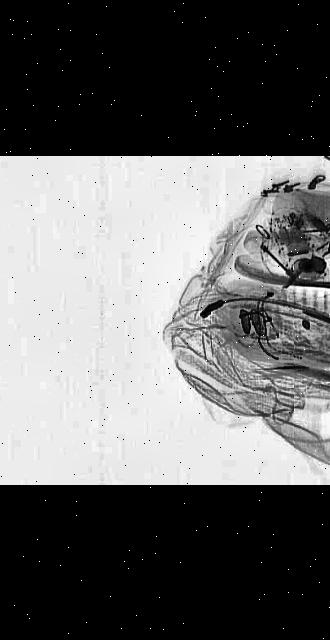Scissors: (293, 301, 330, 350)
